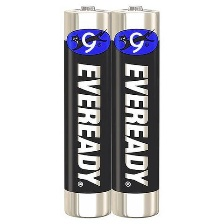battery: (108, 4, 162, 218), (60, 2, 113, 219)
